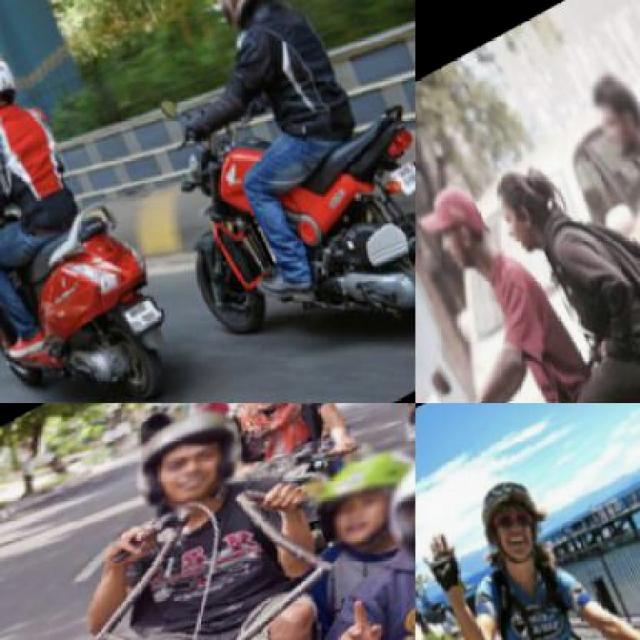With Helmet: (114, 403, 260, 535), (300, 428, 414, 578), (460, 460, 563, 594), (366, 429, 414, 582), (196, 0, 296, 54), (0, 31, 29, 132)
Without Helmet: (416, 158, 502, 291), (572, 45, 638, 177), (484, 160, 567, 263)
